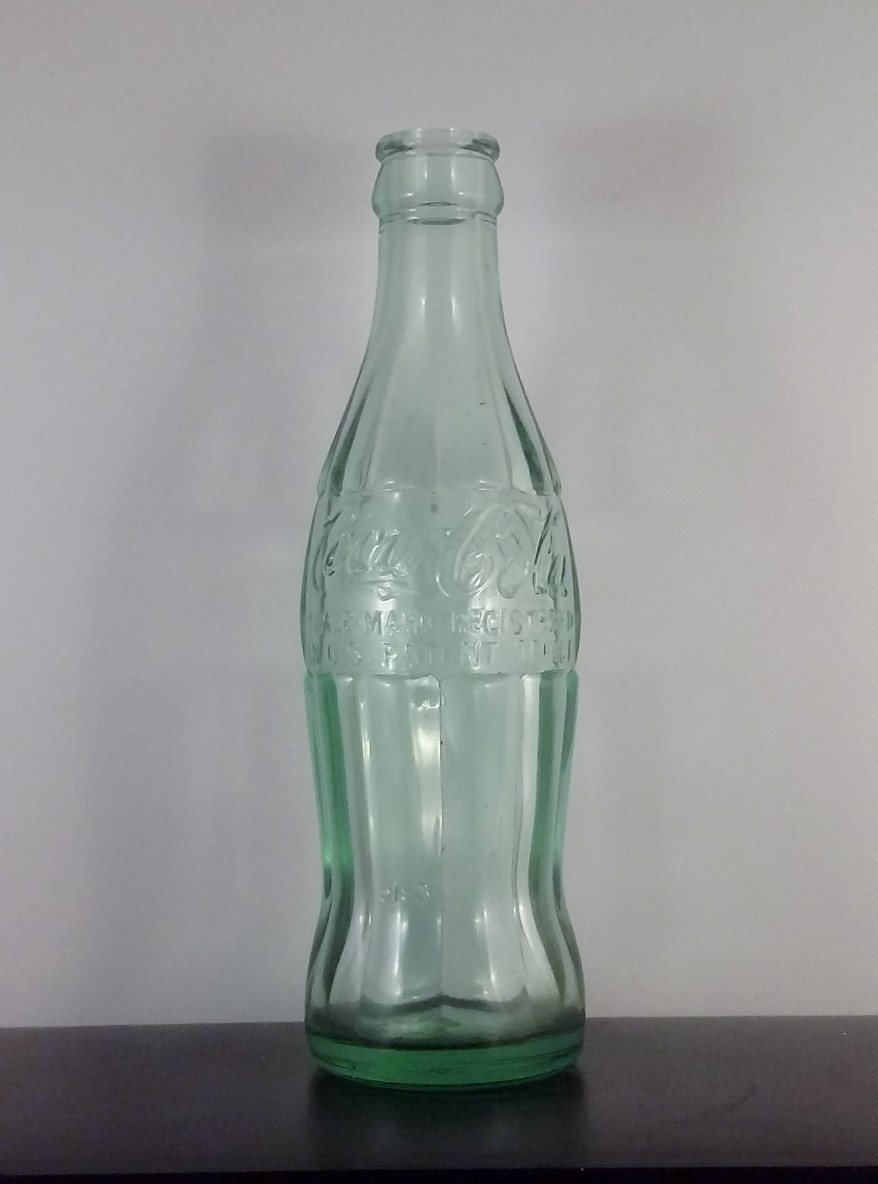Rec_Glass: (190, 110, 644, 1110)
